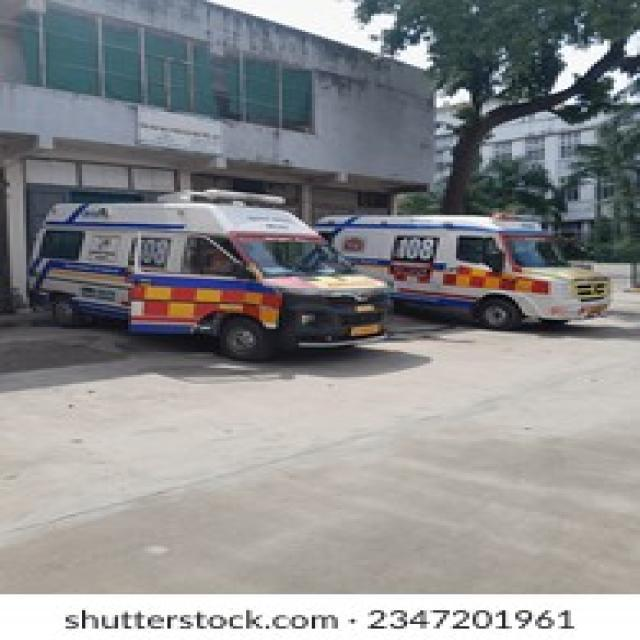ambulance: (33, 193, 388, 358), (312, 210, 619, 325)
